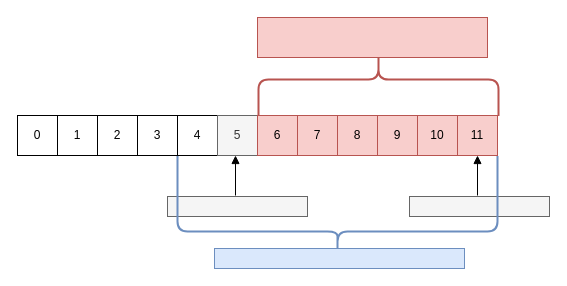
Some shapes in this 567 by 286 pixel diagram are drawn without their labels. Each missing label, with the box of its shape:
리밸런싱이 발생할 경우 누락될 메시지들: (256, 16, 488, 58)
마지막 poll() 메서드 호출에서 리턴된 메시지들: (214, 248, 464, 268)
마지막으로 커밋된 오프셋: (408, 196, 550, 216)
지금 처리중인 이벤트: (166, 196, 308, 216)
